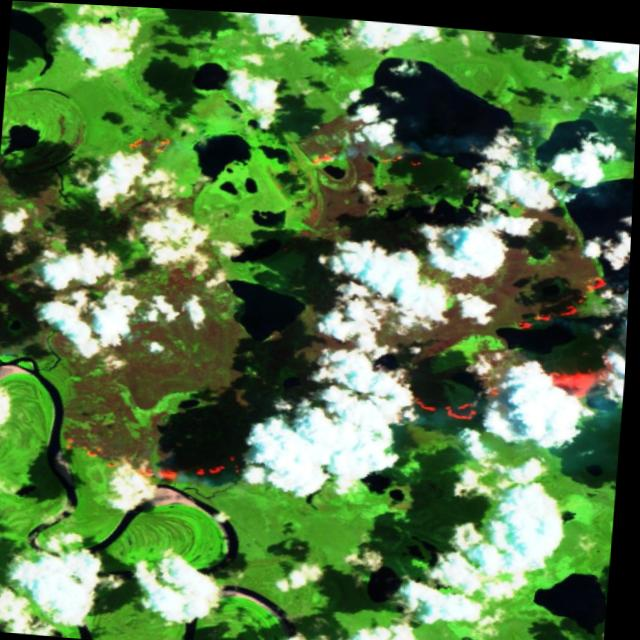fire: (396, 251, 629, 434), (41, 424, 261, 499), (292, 134, 434, 182), (111, 118, 180, 166)
